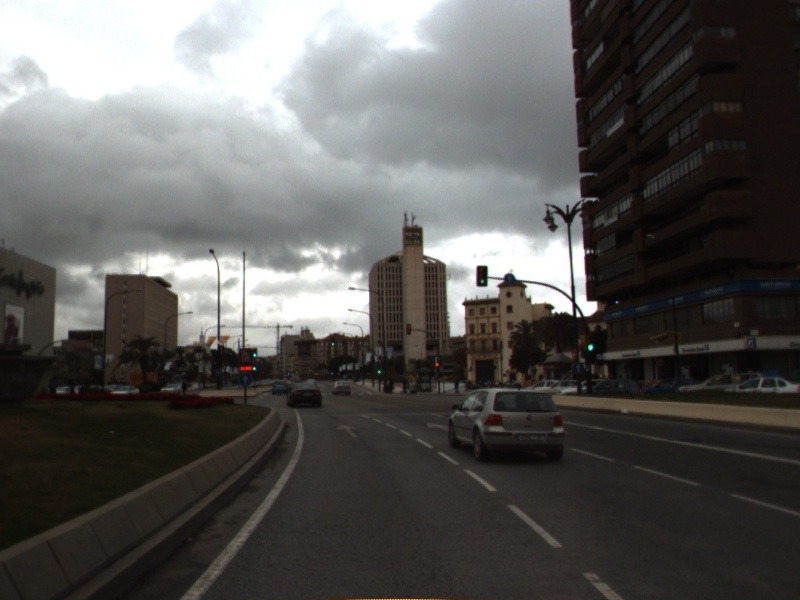STRAIGHT: (333, 422, 359, 439), (425, 420, 450, 432)
